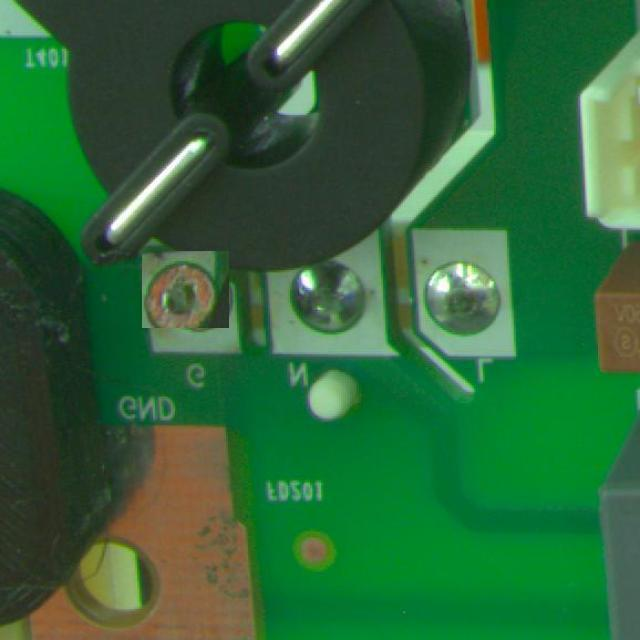lack_of_part: (144, 248, 227, 331)
